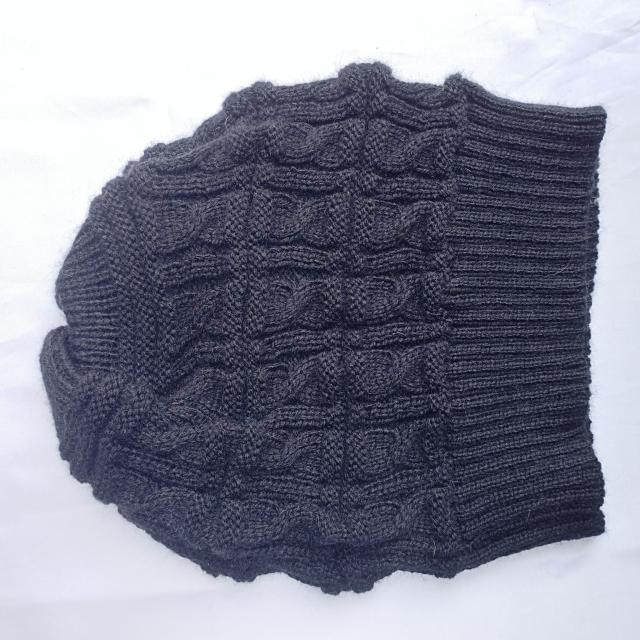Gorro: (39, 60, 608, 596)
